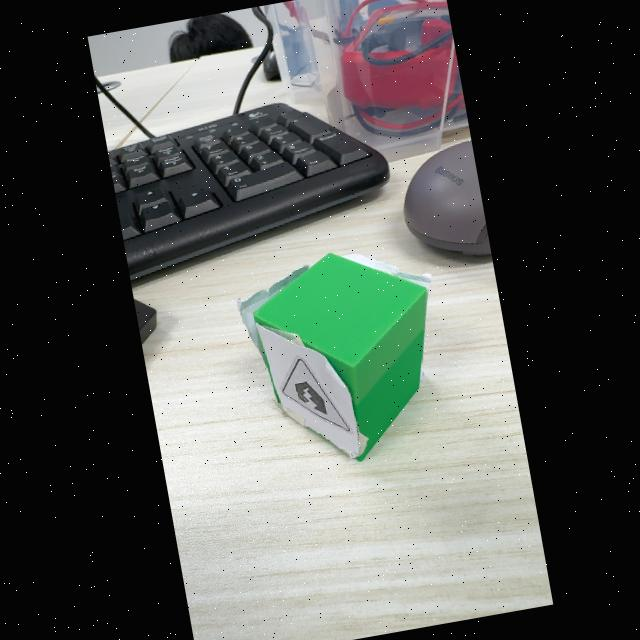Earthquake: (281, 357, 350, 432)
